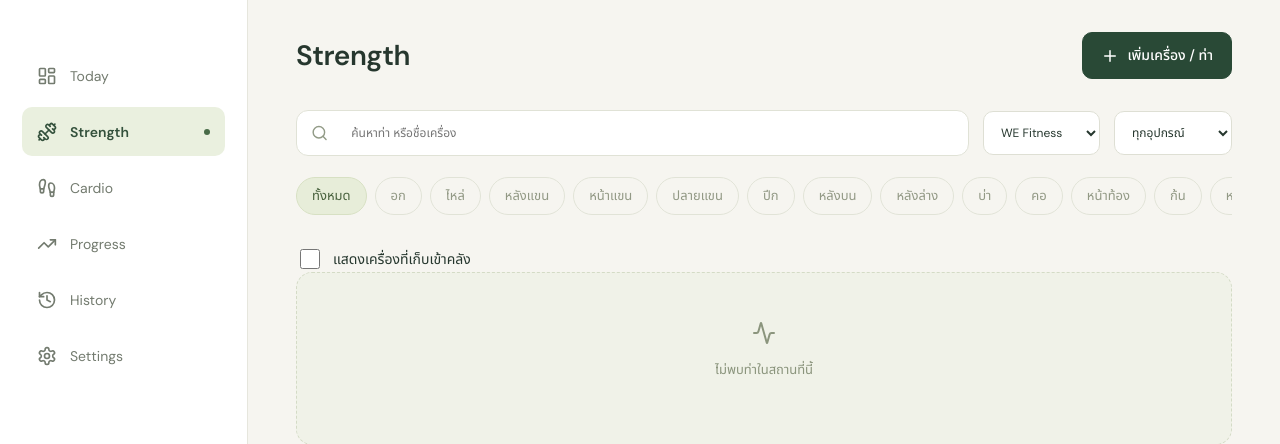
Test: shows Dumbbell Concentration Curl under the home filter with editable photos
Later steps or results of the test are not shown.
Select "ที่บ้าน" in the dropdown named "ฟิตเนส" at (1042, 133), box [983,111,1100,155]
(page scrolled)
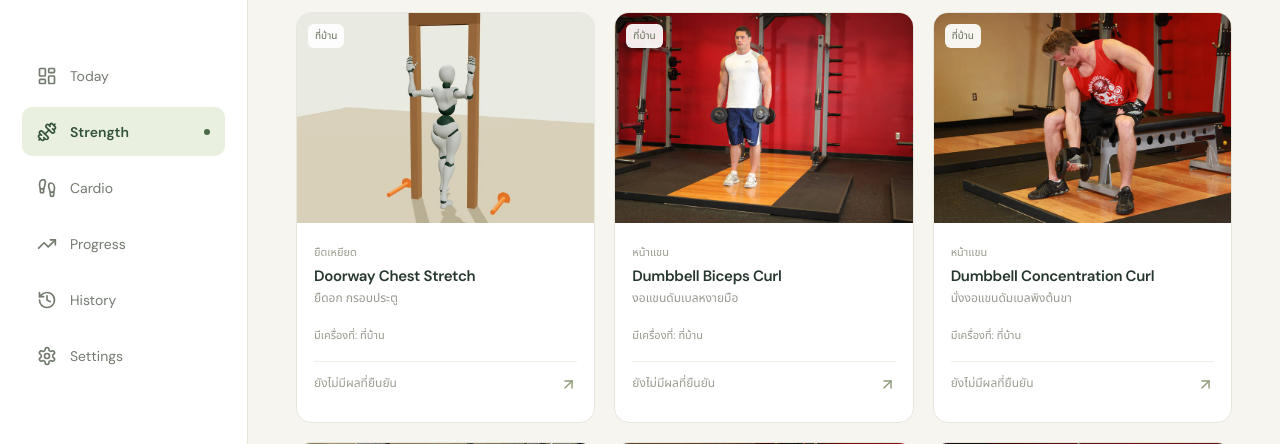
Click the heading "Dumbbell Concentration Curl" at (1052, 276), box [951,266,1154,286]
(page scrolled)
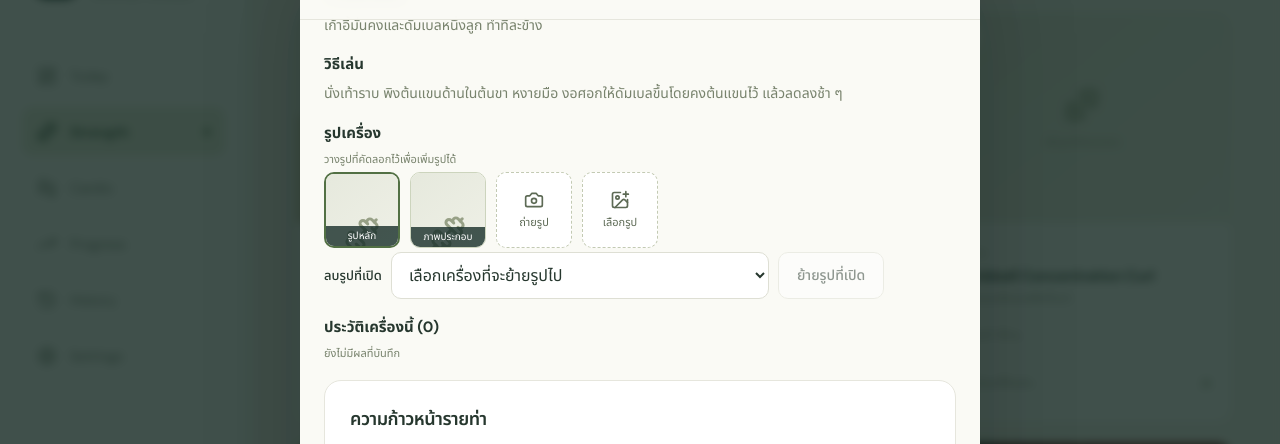
expect the button "รูปหลัก" is shown: met, box [324,172,400,248]
expect the number of buttons named "เปิดรูปเครื่อง" is 1: met, box [410,172,486,248]
expect the file field labelled "เลือกรูป" is shown: met, box [582,172,658,248]
